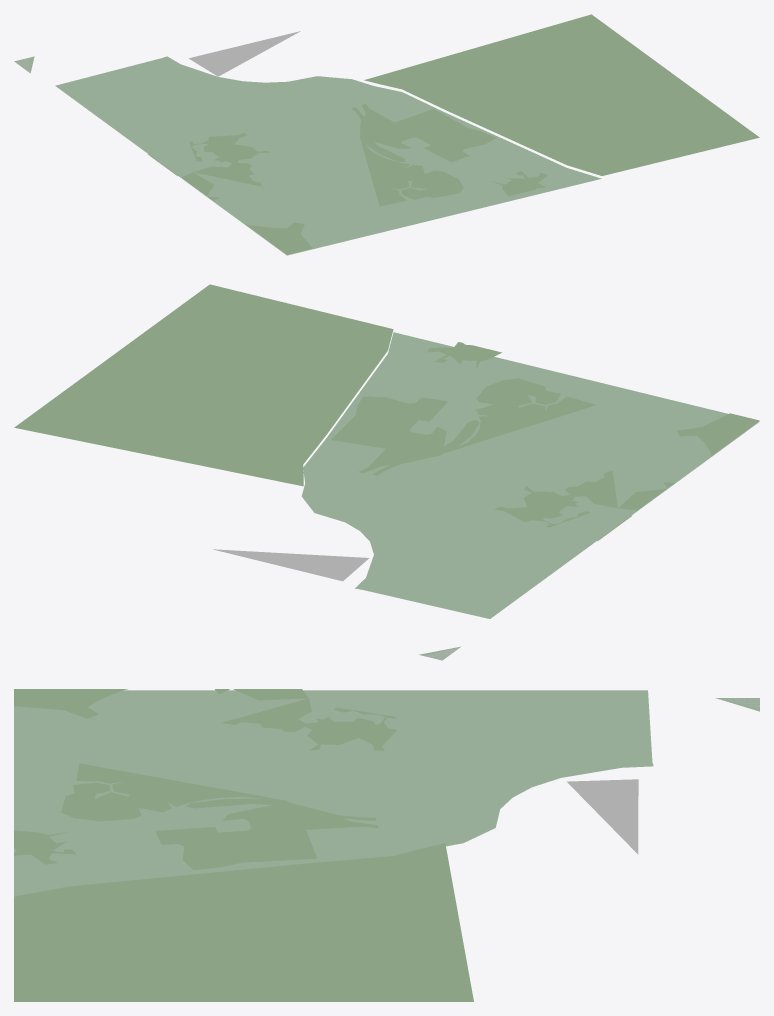
The model's file is 122_117_mid.glb.
The picture shows the model from 3 angles, top to bottom: view 1: azimuth 30°, elevation 25°; view 2: azimuth 150°, elevation 25°; view 3: azimuth 270°, elevation 25°; orthographic projection. The views are drawn at different scales.
Size of the model in its own units: 500 by 11.07 by 500.
